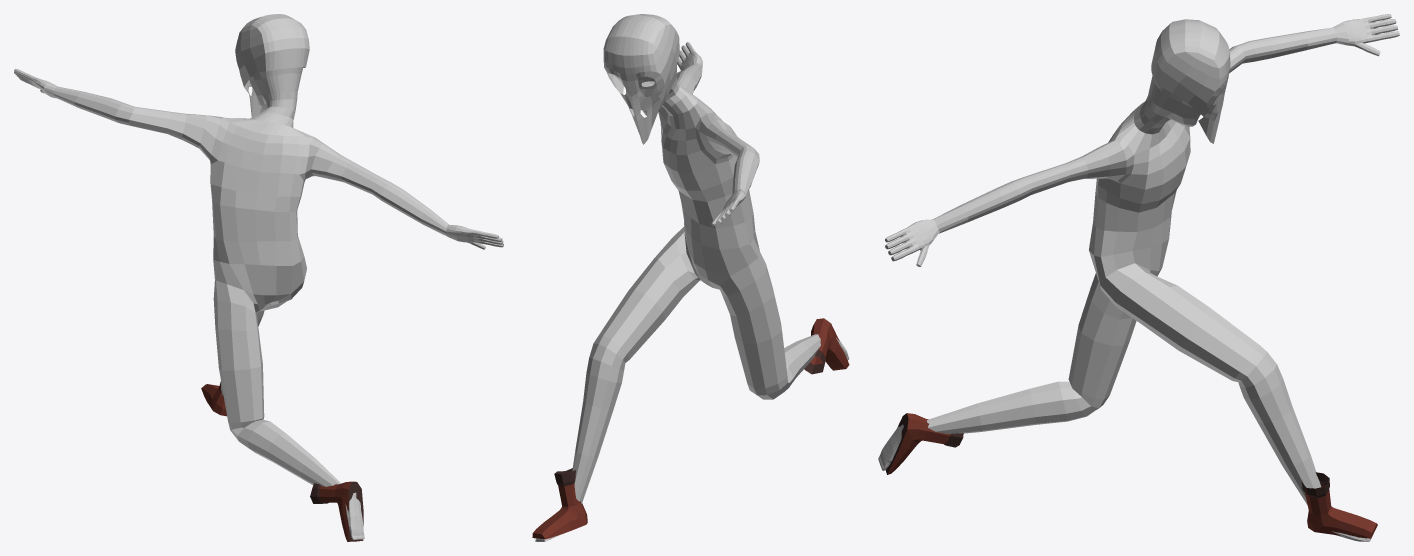
File: saltoadelante_000116.obj
The picture shows the model from 3 angles, left to right: view 1: azimuth 30°, elevation 25°; view 2: azimuth 150°, elevation 25°; view 3: azimuth 270°, elevation 25°; orthographic projection. The views are drawn at different scales.
Parts seen in each view (by area): view 1: Plane.002_Plane.001, Plane.004; view 2: Plane.002_Plane.001, Plane.003, Plane.004; view 3: Plane.002_Plane.001, Plane.003, Plane.004.
Boxes of the visible parts, x1=… form: Plane.002_Plane.001: x1=14, y1=14, x2=503, y2=539; Plane.004: x1=310, y1=481, x2=363, y2=541; Plane.002_Plane.001: x1=535, y1=14, x2=849, y2=541; Plane.003: x1=532, y1=468, x2=587, y2=539; Plane.004: x1=804, y1=318, x2=849, y2=374; Plane.002_Plane.001: x1=878, y1=14, x2=1399, y2=541; Plane.003: x1=1301, y1=472, x2=1377, y2=538; Plane.004: x1=885, y1=413, x2=963, y2=474.
Size of the model in its own units: 3.84 by 5.95 by 5.57.
